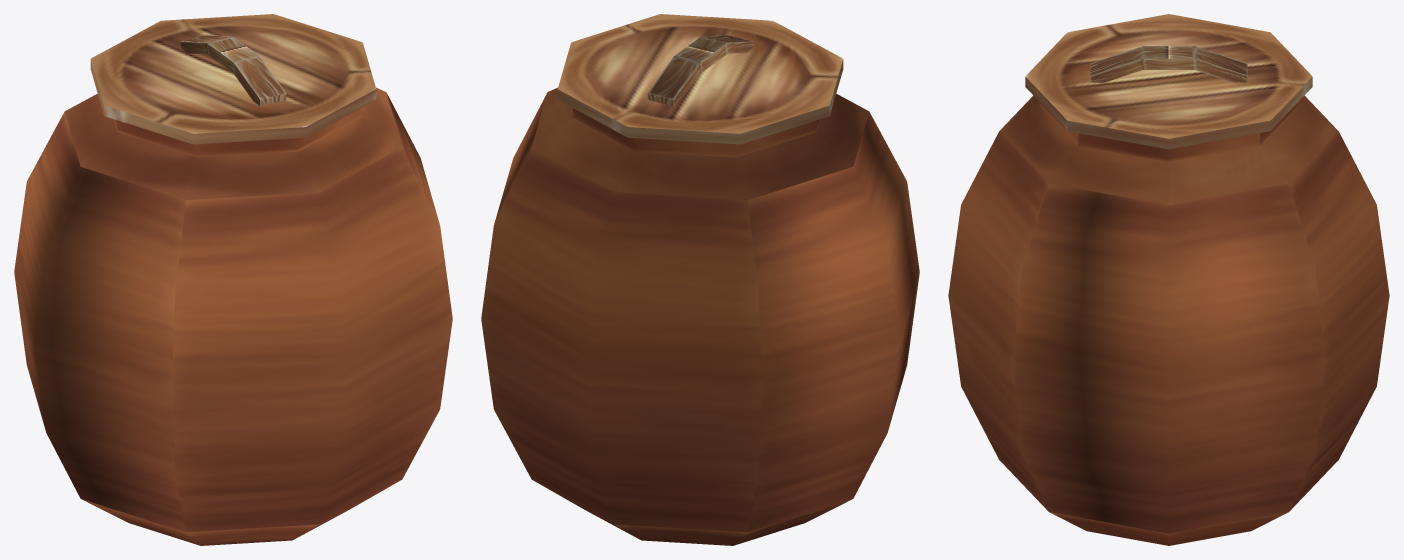
The model's file is mutong_02.fbx.
3 renders of one model, left to right at view 1: azimuth 30°, elevation 25°; view 2: azimuth 150°, elevation 25°; view 3: azimuth 270°, elevation 25°, orthographic.
Parts seen in each view (by area): view 1: mutong_01; view 2: mutong_01; view 3: mutong_01.
Part boxes in pixels (<box>): mutong_01: <box>14,14,452,545</box>; mutong_01: <box>481,14,919,545</box>; mutong_01: <box>948,14,1389,545</box>.
Size of the model in its own units: 98.27 by 106 by 95.55.
